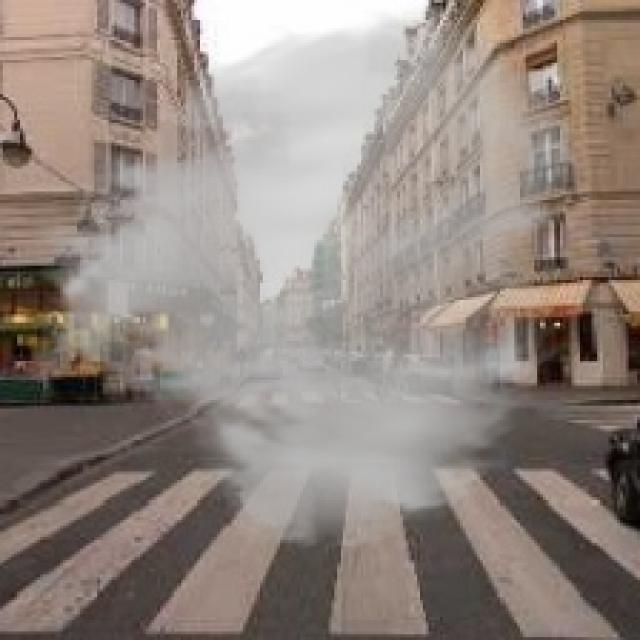smoke: (20, 3, 583, 554)
